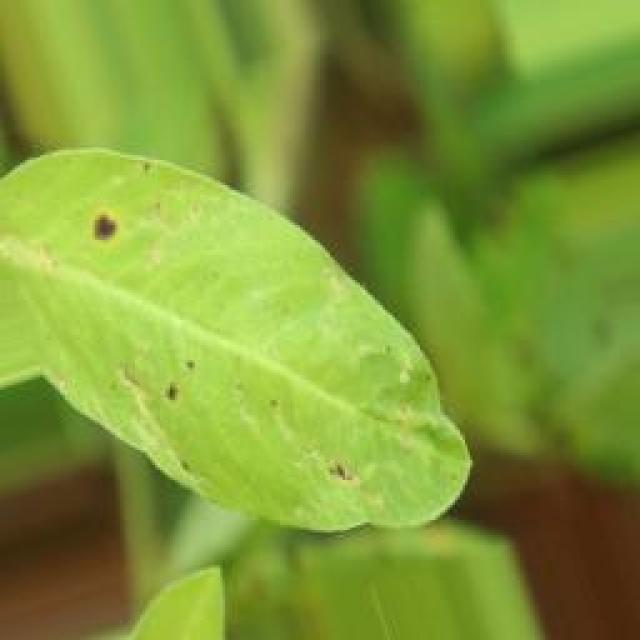Sigatoka: (87, 194, 161, 287), (147, 328, 216, 427), (272, 423, 356, 496), (141, 156, 202, 224)
